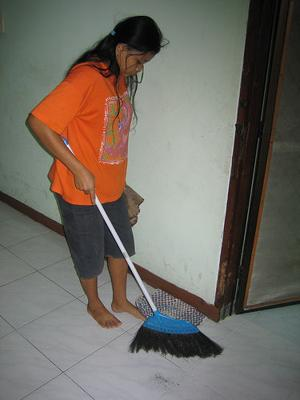person: (25, 14, 165, 331)
